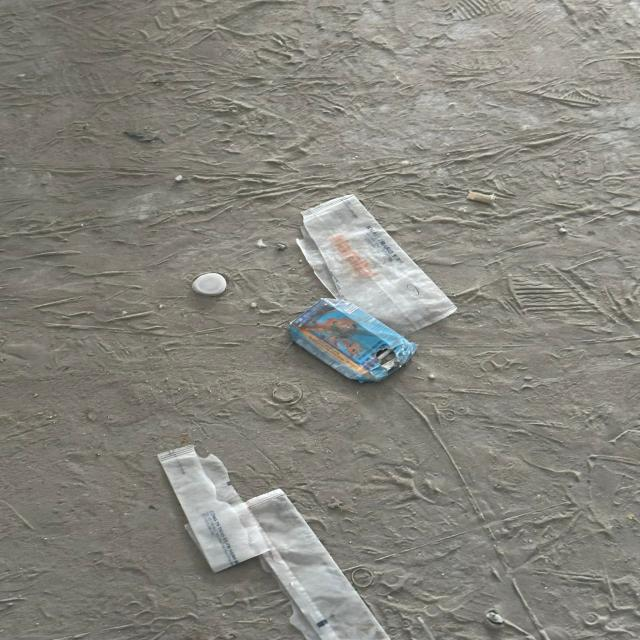milk box: (289, 297, 418, 383)
packet: (157, 443, 391, 640), (296, 194, 457, 337)
